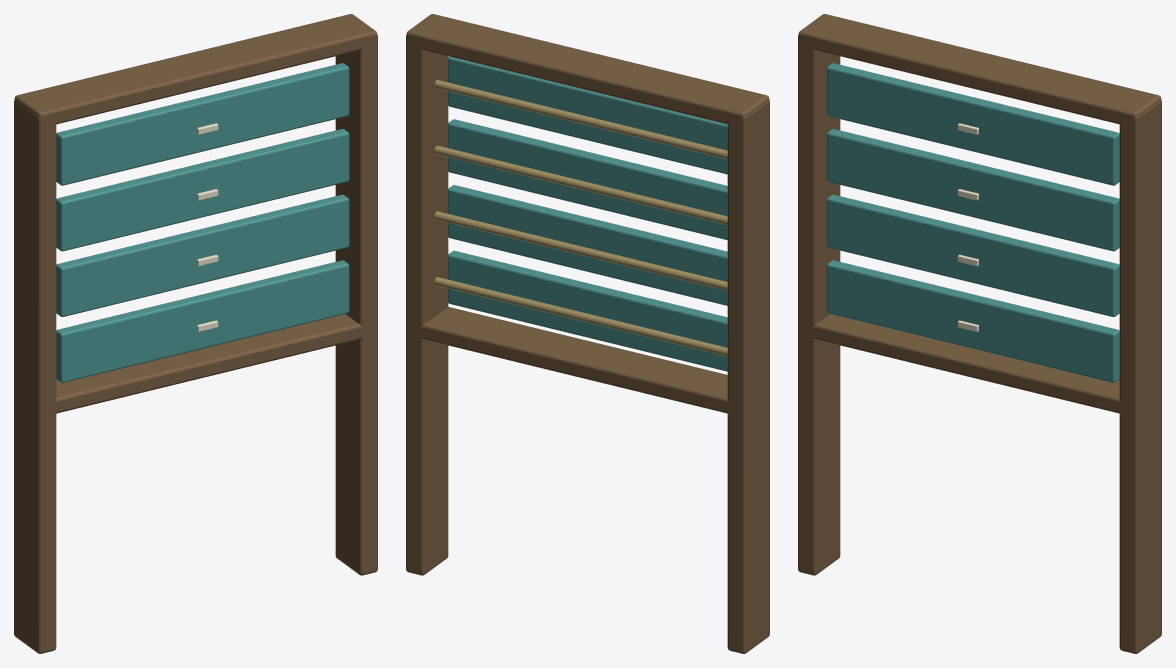
File: water-clock-garden-and-hydraulic-puzzles-segmented-dis-6755bd2b__31941.glb
3 views of the same model, side by side, from view 1: azimuth 30°, elevation 25°; view 2: azimuth 150°, elevation 25°; view 3: azimuth 330°, elevation 25° (orthographic).
Visible parts, largest first — view 1: segmented-display-shutter; view 2: segmented-display-shutter; view 3: segmented-display-shutter.
Boxes of the visible parts, x1,y1,x2,y2 form: segmented-display-shutter: [14, 14, 377, 653]; segmented-display-shutter: [406, 14, 769, 653]; segmented-display-shutter: [798, 14, 1161, 653].
Bounding box in the file's own units: 1.36 × 2.06 × 0.1801.
